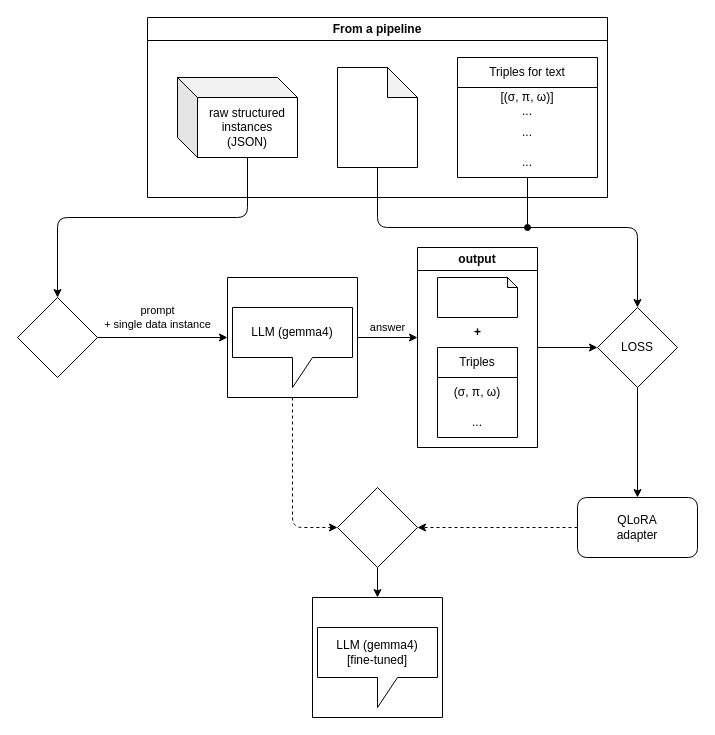
Image size: 715x735. Some labels were removed from this diagram. The centre of each missing label's shape, as x and y in pixels:
"merge" goes at point 377,527.
"parser" goes at point 57,337.
"reference text" goes at point 477,297.
"reference texts" goes at point 377,117.
